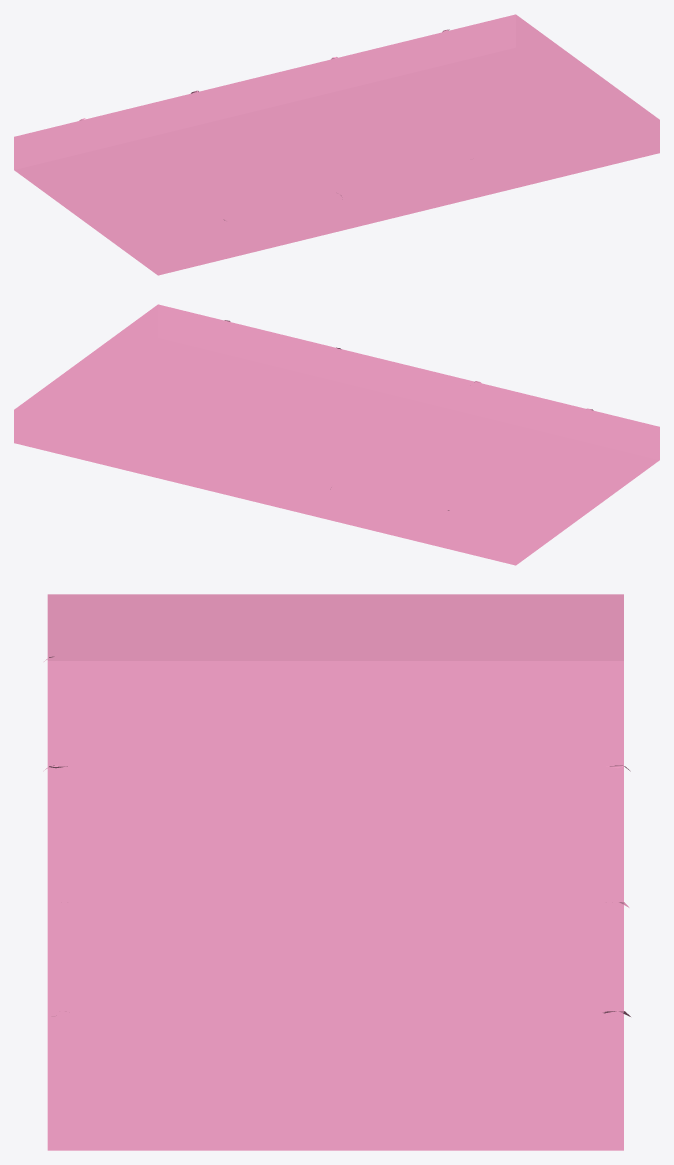
Rendered from arccorp_landingpad_floor_4x8_a_lod2.glb.
3 views of the same model, one above another, from view 1: azimuth 30°, elevation 25°; view 2: azimuth 150°, elevation 25°; view 3: azimuth 270°, elevation 25° (orthographic). The views are drawn at different scales.
Size of the model in its own units: 8 by 0.5288 by 4.07.
